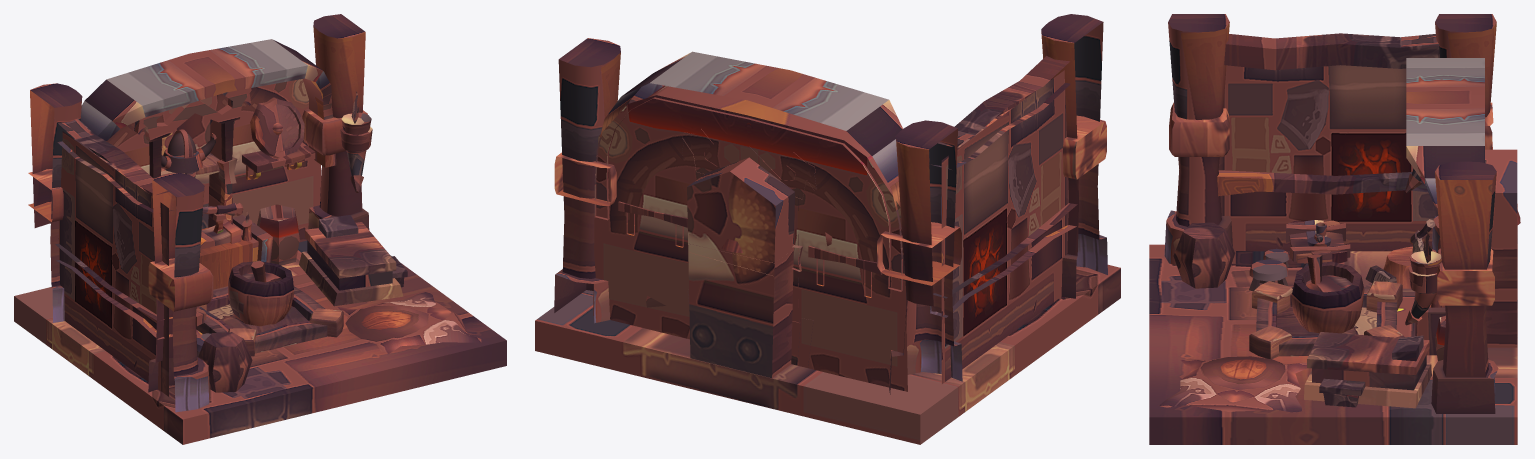
The model's file is viking_room.obj.
3 renders of one model, left to right at view 1: azimuth 30°, elevation 25°; view 2: azimuth 150°, elevation 25°; view 3: azimuth 270°, elevation 25°, orthographic. The views are drawn at different scales.
Visible parts, largest first — view 1: mesh_all1_Texture1_0; view 2: mesh_all1_Texture1_0; view 3: mesh_all1_Texture1_0.
Boxes of the visible parts, <box> form: mesh_all1_Texture1_0: <box>14,14,506,444</box>; mesh_all1_Texture1_0: <box>535,14,1120,444</box>; mesh_all1_Texture1_0: <box>1149,14,1520,444</box>.
Size of the model in its own units: 1.46 by 1.03 by 1.33.
